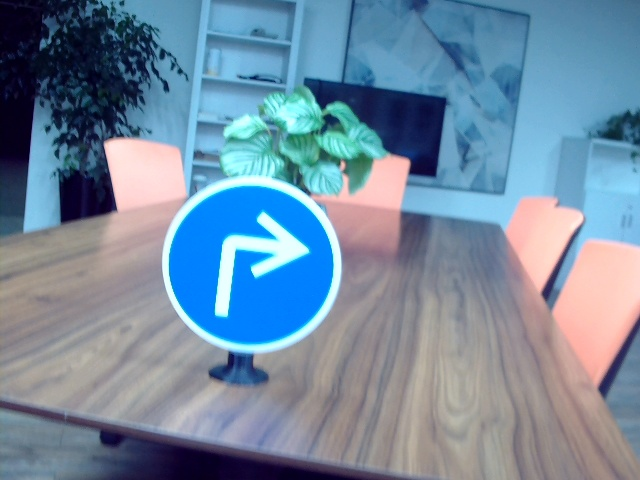turn_right: (207, 209, 308, 319)
